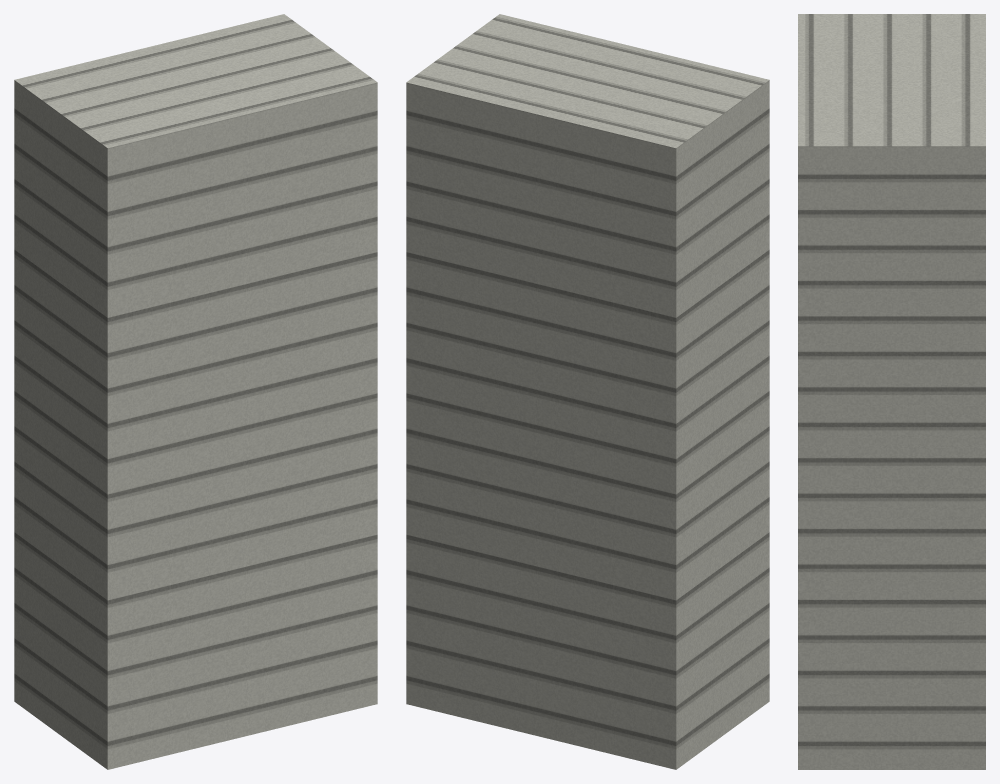
The model's file is library_stack_range.glb.
3 renders of one model, left to right at view 1: azimuth 30°, elevation 25°; view 2: azimuth 150°, elevation 25°; view 3: azimuth 270°, elevation 25°, orthographic.
Parts seen in each view (by area): view 1: library_stack_range-col; view 2: library_stack_range-col; view 3: library_stack_range-col.
Part boxes in pixels (x1,y1,x2,y2): library_stack_range-col: [14, 14, 377, 769]; library_stack_range-col: [406, 14, 769, 769]; library_stack_range-col: [798, 14, 985, 769].
Bounding box in the file's own units: 1 × 2.2 × 0.6.
Materials: 1 (1 with a texture image).
